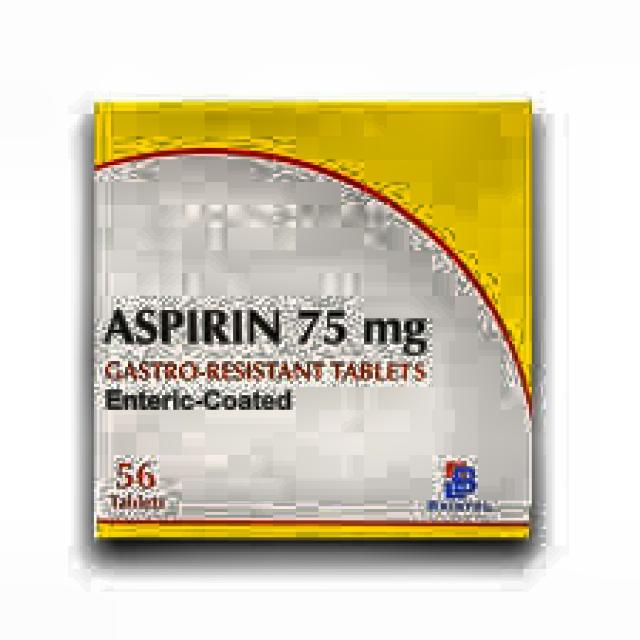Aspirin: (95, 107, 531, 539)
